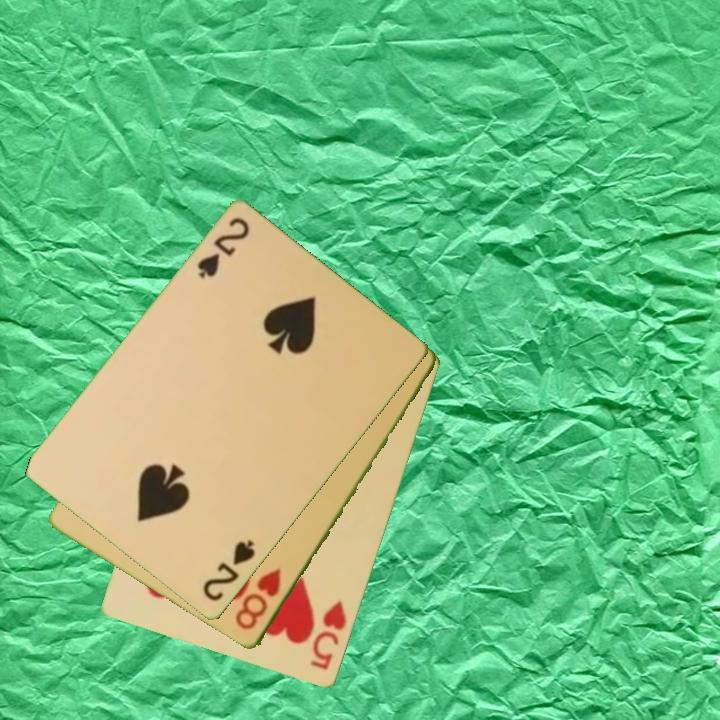2s: (199, 536, 259, 605), (193, 214, 253, 282)
5h: (307, 597, 350, 674)
8h: (231, 565, 284, 634)
